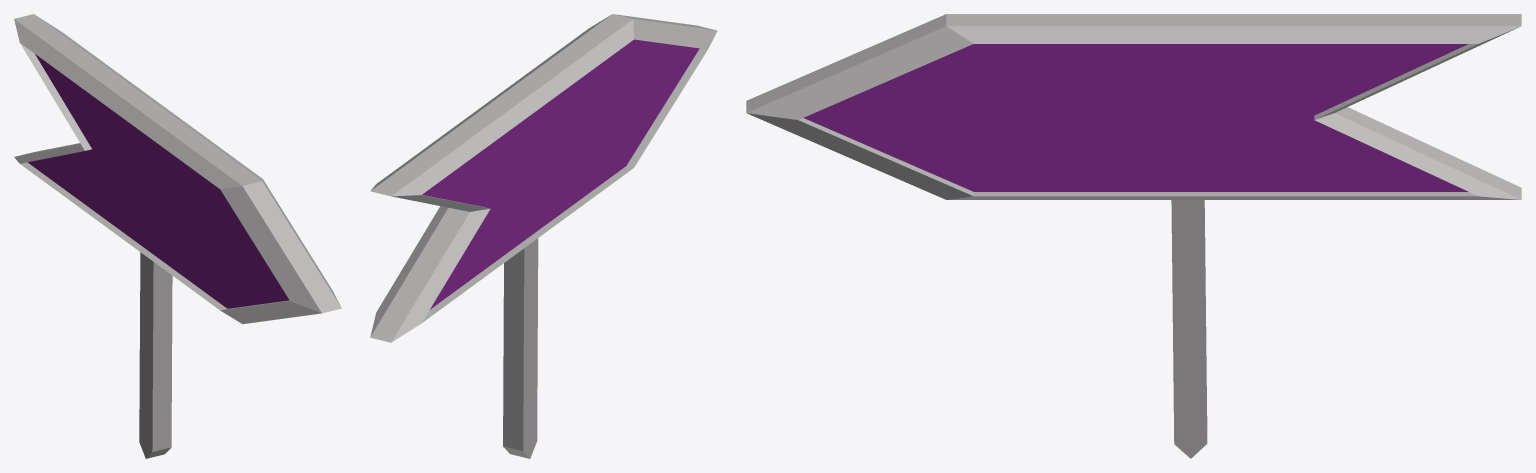
Rendered from Sign.fbx.
3 renders of one model, left to right at view 1: azimuth 30°, elevation 25°; view 2: azimuth 150°, elevation 25°; view 3: azimuth 270°, elevation 25°, orthographic. The views are drawn at different scales.
Visible parts, largest first — view 1: Cube, Cube.002; view 2: Cube, Cube.002; view 3: Cube, Cube.002.
Boxes of the visible parts, x1=… form: Cube: x1=14, y1=14, x2=341, y2=324; Cube.002: x1=139, y1=252, x2=172, y2=458; Cube: x1=370, y1=14, x2=717, y2=342; Cube.002: x1=503, y1=238, x2=538, y2=458; Cube: x1=746, y1=14, x2=1521, y2=199; Cube.002: x1=1171, y1=200, x2=1207, y2=458.
Size of the model in its own units: 6.47 by 49.82 by 80.88.
